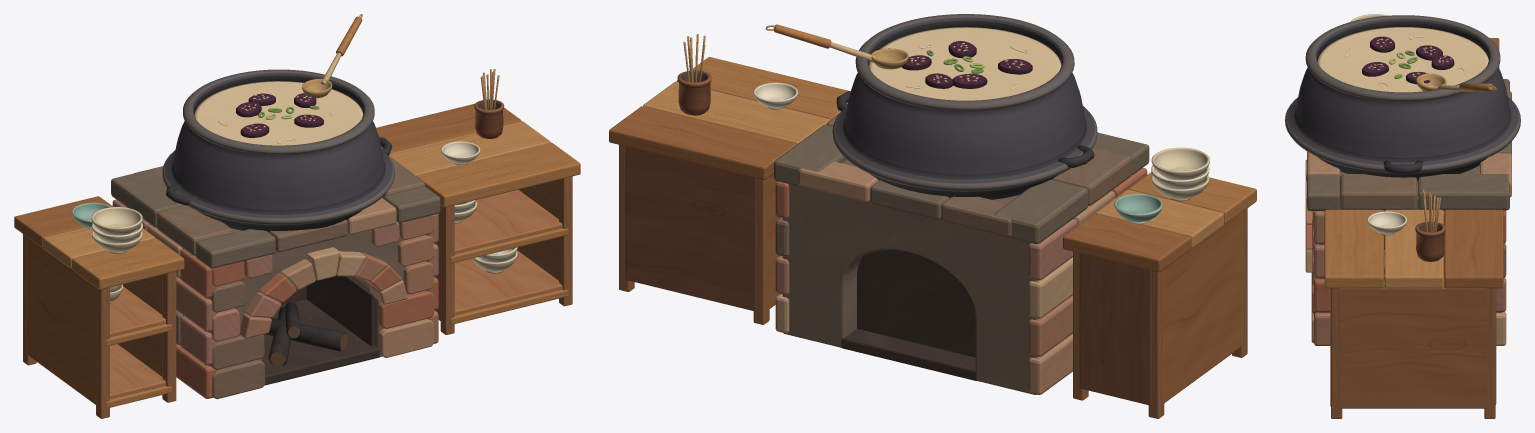
File: SM_GukbapCookstation.fbx
3 renders of one model, left to right at view 1: azimuth 30°, elevation 25°; view 2: azimuth 150°, elevation 25°; view 3: azimuth 270°, elevation 25°, orthographic. The views are drawn at different scales.
Parts seen in each view (by area): view 1: SM_GukbapCookstation; view 2: SM_GukbapCookstation; view 3: SM_GukbapCookstation.
Part boxes in pixels (x1=…): SM_GukbapCookstation: x1=14, y1=14, x2=580, y2=418; SM_GukbapCookstation: x1=609, y1=14, x2=1256, y2=418; SM_GukbapCookstation: x1=1285, y1=14, x2=1520, y2=418.
Size of what is drawn, in the model's own units: 275 by 115 by 144.
1 material, 1 textured.
